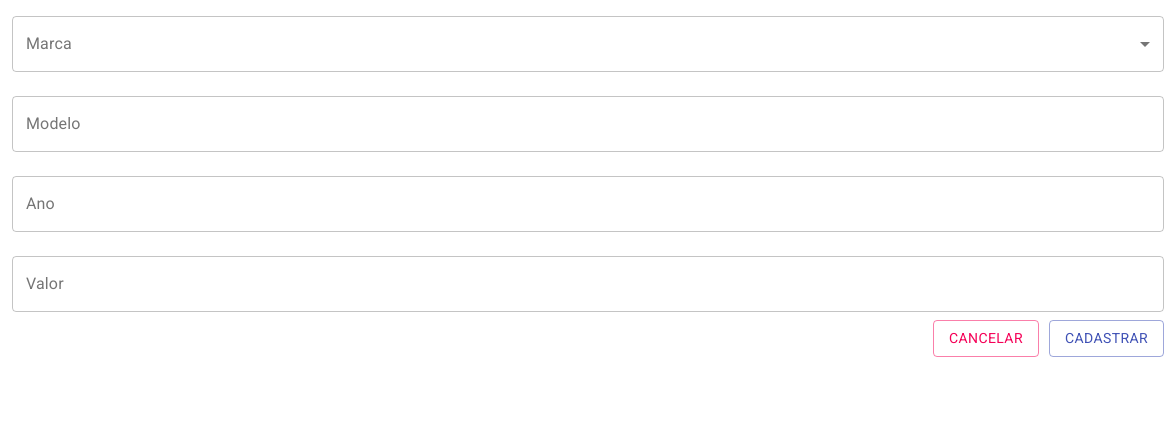
Test: <VehicleRegister /> › Should show error message when input year is invalid
This screenshot has width=1176, height=442.
In the field labelled "Ano": (588, 204) [12,176,1164,232], type "20"
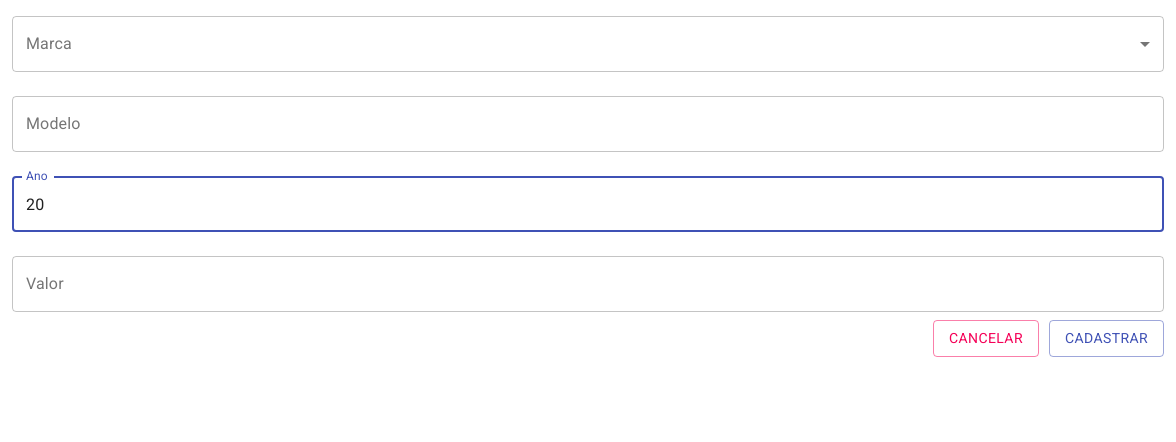
Click the button "Cadastrar": (1106, 338) [1049,320,1164,356]
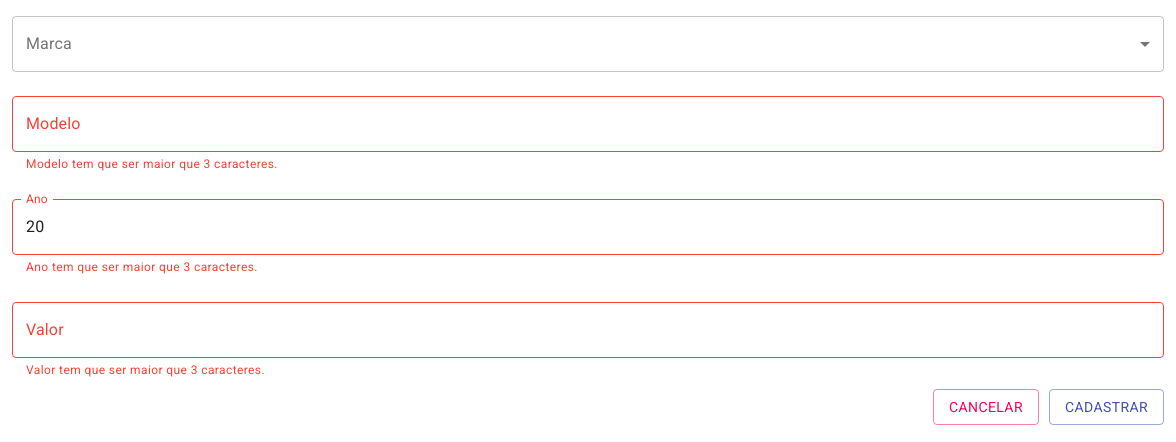
Now the text "Ano tem que ser maior que 3 caracteres." is shown, box [26,260,258,274]
